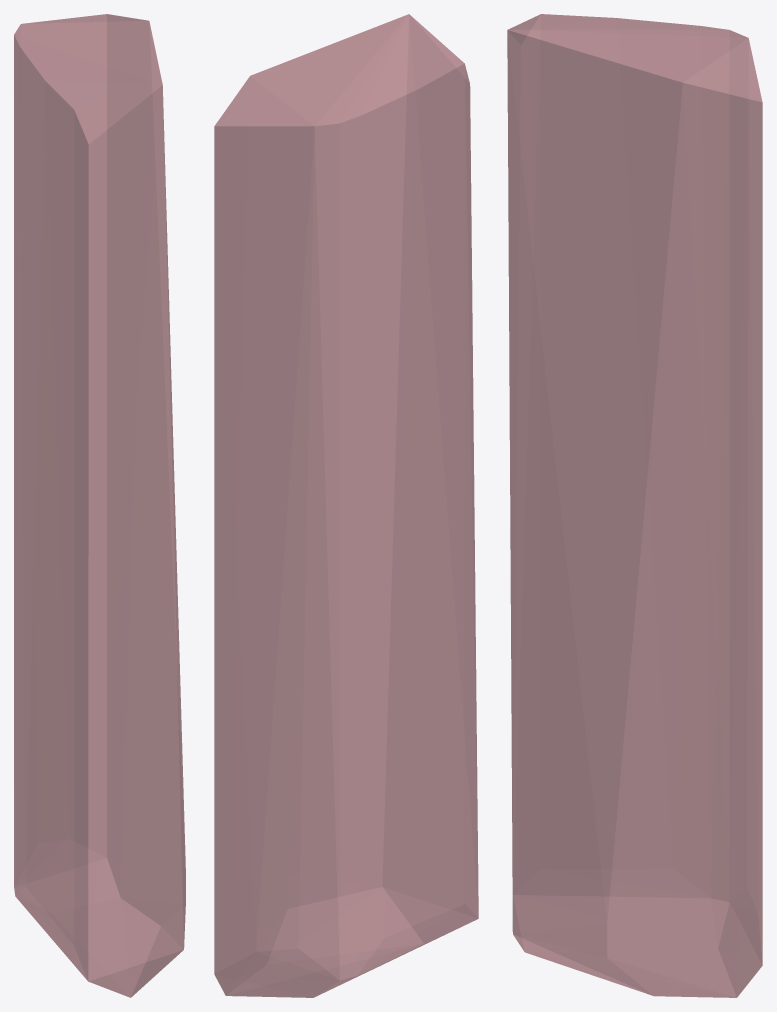
3 views of the same model, side by side, from view 1: azimuth 30°, elevation 25°; view 2: azimuth 150°, elevation 25°; view 3: azimuth 270°, elevation 25° (orthographic). The views are drawn at different scales.
Parts seen in each view (by area): view 1: Shape_IndexedFaceSet.004_Shape_IndexedFaceSet.18227; view 2: Shape_IndexedFaceSet.004_Shape_IndexedFaceSet.18227; view 3: Shape_IndexedFaceSet.004_Shape_IndexedFaceSet.18227.
Boxes of the visible parts, box(x1,y1,x2,y2) form: Shape_IndexedFaceSet.004_Shape_IndexedFaceSet.18227: box(14, 14, 185, 997); Shape_IndexedFaceSet.004_Shape_IndexedFaceSet.18227: box(214, 14, 478, 997); Shape_IndexedFaceSet.004_Shape_IndexedFaceSet.18227: box(507, 14, 762, 997).
Bounding box in the file's own units: 0.0974 × 0.5886 × 0.1458.
